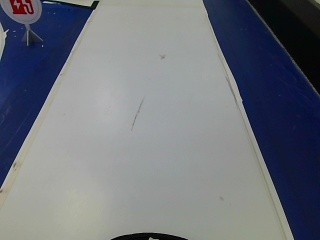battery: (0, 0, 38, 17)
